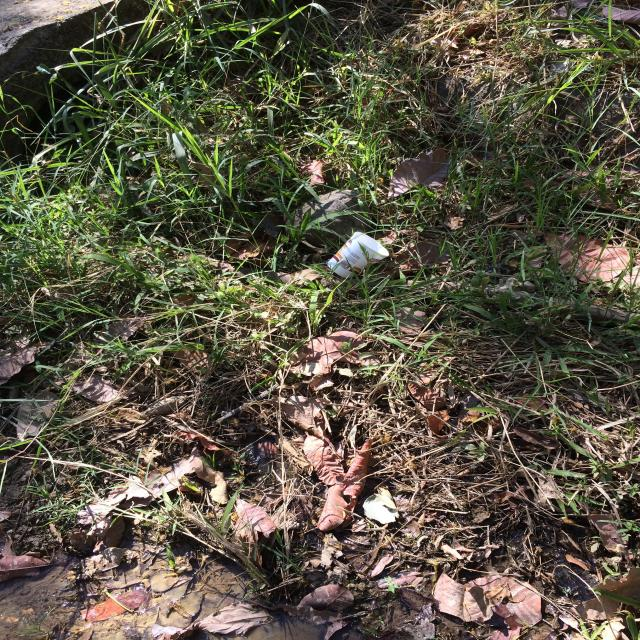Paper cup: (327, 232, 389, 279)
